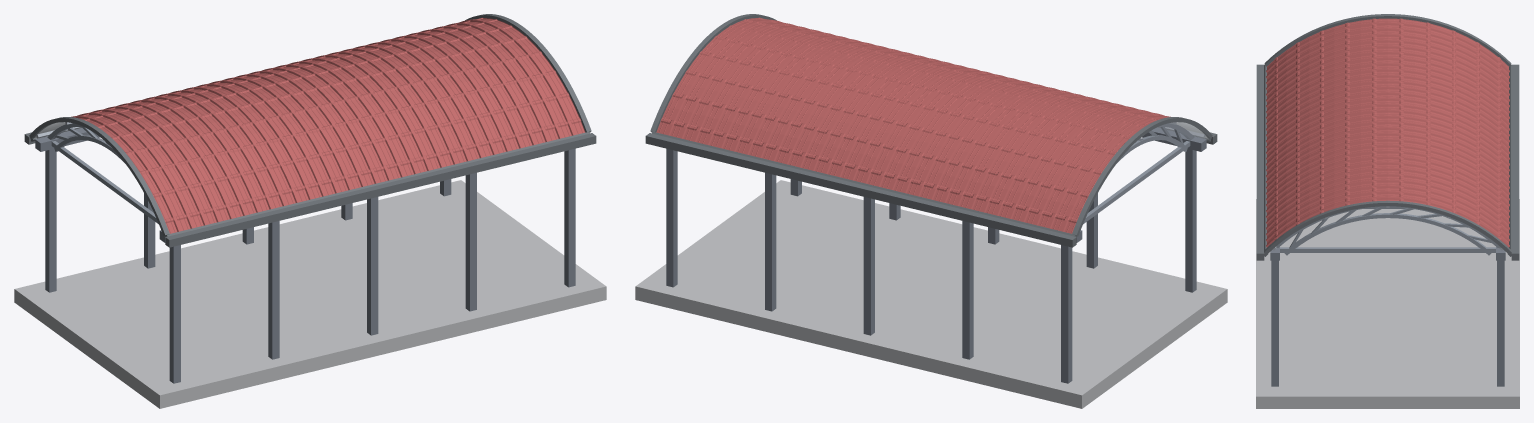
File: Mega_Curved_Canopy.glb
3 renders of one model, left to right at view 1: azimuth 30°, elevation 25°; view 2: azimuth 150°, elevation 25°; view 3: azimuth 270°, elevation 25°, orthographic. The views are drawn at different scales.
Parts seen in each view (by area): view 1: Foundation, RoofSheet_07, RoofSheet_02, RoofSheet_03, RoofSheet_06, RoofSheet_05, RoofSheet_04, RoofSheet_08, RoofSheet_01, Gutter_Front, Gym_Column_Back_1, Gym_Column_Front_2 (+9 smaller); view 2: Foundation, RoofSheet_07, RoofSheet_02, RoofSheet_03, RoofSheet_06, RoofSheet_05, RoofSheet_04, RoofSheet_08, RoofSheet_01, Gutter_Back, Gym_Column_Front_1, Gym_Column_Back_2 (+9 smaller); view 3: Foundation, RoofSheet_03, RoofSheet_05, RoofSheet_07, RoofSheet_02, RoofSheet_04, RoofSheet_06, RoofSheet_01, RoofSheet_08, Rake_Flashing_Right, Gutter_Front, Gutter_Back (+8 smaller).
Part boxes in pixels (bbox=[...]): Foundation: bbox=[14, 180, 606, 408]; RoofSheet_07: bbox=[378, 29, 535, 157]; RoofSheet_02: bbox=[114, 93, 272, 221]; RoofSheet_03: bbox=[166, 80, 324, 208]; RoofSheet_06: bbox=[321, 42, 482, 170]; RoofSheet_05: bbox=[269, 55, 429, 182]; RoofSheet_04: bbox=[220, 68, 377, 195]; RoofSheet_08: bbox=[428, 17, 585, 144]; RoofSheet_01: bbox=[71, 106, 219, 233]; Gutter_Front: bbox=[165, 133, 596, 247]; Gym_Column_Back_1: bbox=[45, 149, 56, 292]; Gym_Column_Front_2: bbox=[268, 221, 279, 359]; Foundation: bbox=[635, 180, 1227, 408]; RoofSheet_07: bbox=[706, 29, 863, 157]; RoofSheet_02: bbox=[969, 93, 1127, 221]; RoofSheet_03: bbox=[917, 80, 1075, 208]; RoofSheet_06: bbox=[759, 42, 920, 170]; RoofSheet_05: bbox=[812, 55, 972, 182]; RoofSheet_04: bbox=[864, 68, 1021, 195]; RoofSheet_08: bbox=[656, 17, 813, 144]; RoofSheet_01: bbox=[1022, 106, 1170, 233]; Gutter_Back: bbox=[645, 133, 1076, 247]; Gym_Column_Front_1: bbox=[1185, 149, 1196, 292]; Gym_Column_Back_2: bbox=[962, 221, 973, 359]; Foundation: bbox=[1256, 199, 1519, 408]; RoofSheet_03: bbox=[1266, 63, 1509, 134]; RoofSheet_05: bbox=[1266, 110, 1509, 181]; RoofSheet_07: bbox=[1266, 156, 1509, 227]; RoofSheet_02: bbox=[1266, 40, 1509, 111]; RoofSheet_04: bbox=[1266, 86, 1509, 157]; RoofSheet_06: bbox=[1266, 133, 1509, 204]; RoofSheet_01: bbox=[1266, 18, 1509, 88]; RoofSheet_08: bbox=[1266, 180, 1509, 247]; Rake_Flashing_Right: bbox=[1264, 200, 1511, 254]; Gutter_Front: bbox=[1256, 64, 1264, 260]; Gutter_Back: bbox=[1511, 64, 1519, 260].
Bounding box in the file's own units: 8.6 × 4.09 × 4.85.
